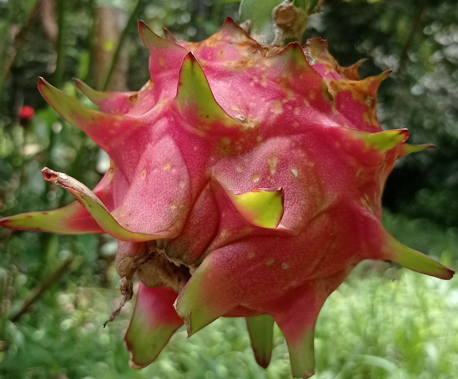Matang: (11, 35, 405, 351)
